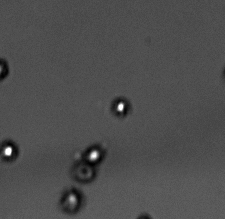Dead Cell: (72, 160, 97, 182), (1, 57, 10, 82)
Living Cell: (60, 188, 82, 212), (1, 139, 20, 163), (83, 143, 104, 164), (110, 97, 132, 117)
